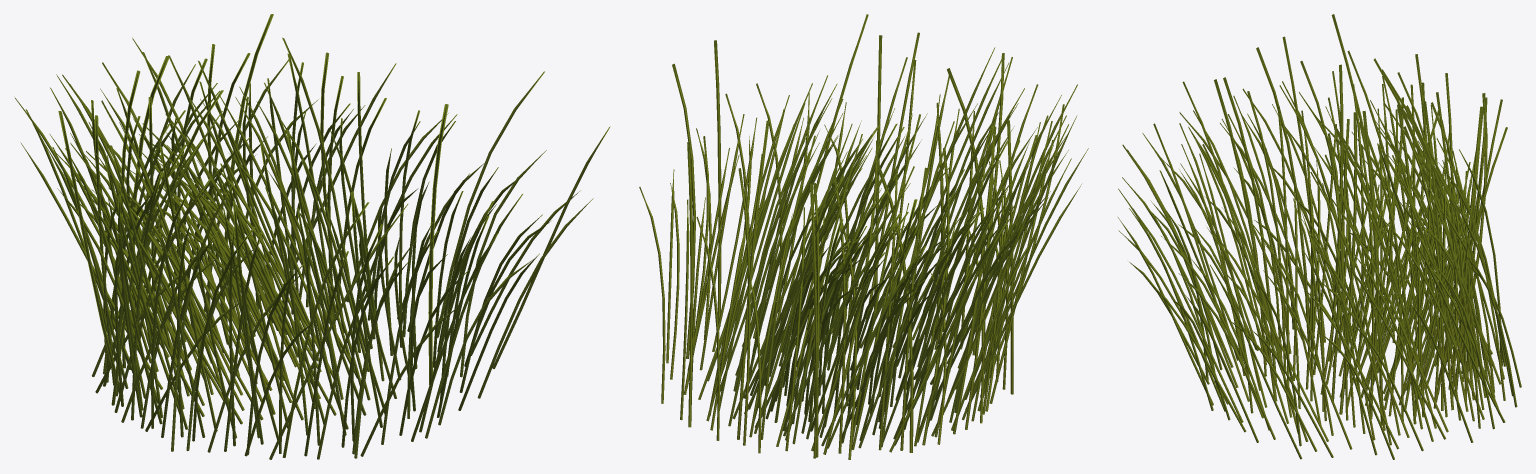
File: grass1.obj
3 views of the same model, side by side, from view 1: azimuth 30°, elevation 25°; view 2: azimuth 150°, elevation 25°; view 3: azimuth 270°, elevation 25° (orthographic). The views are drawn at different scales.
Parts seen in each view (by area): view 1: tree; view 2: tree; view 3: tree.
Part boxes in pixels (x1,y1,x2,y2): tree: (15,14,610,459); tree: (639,14,1088,459); tree: (1118,14,1521,459).
Bounding box in the file's own units: 157 × 108 × 141.
1 material, 1 textured.
